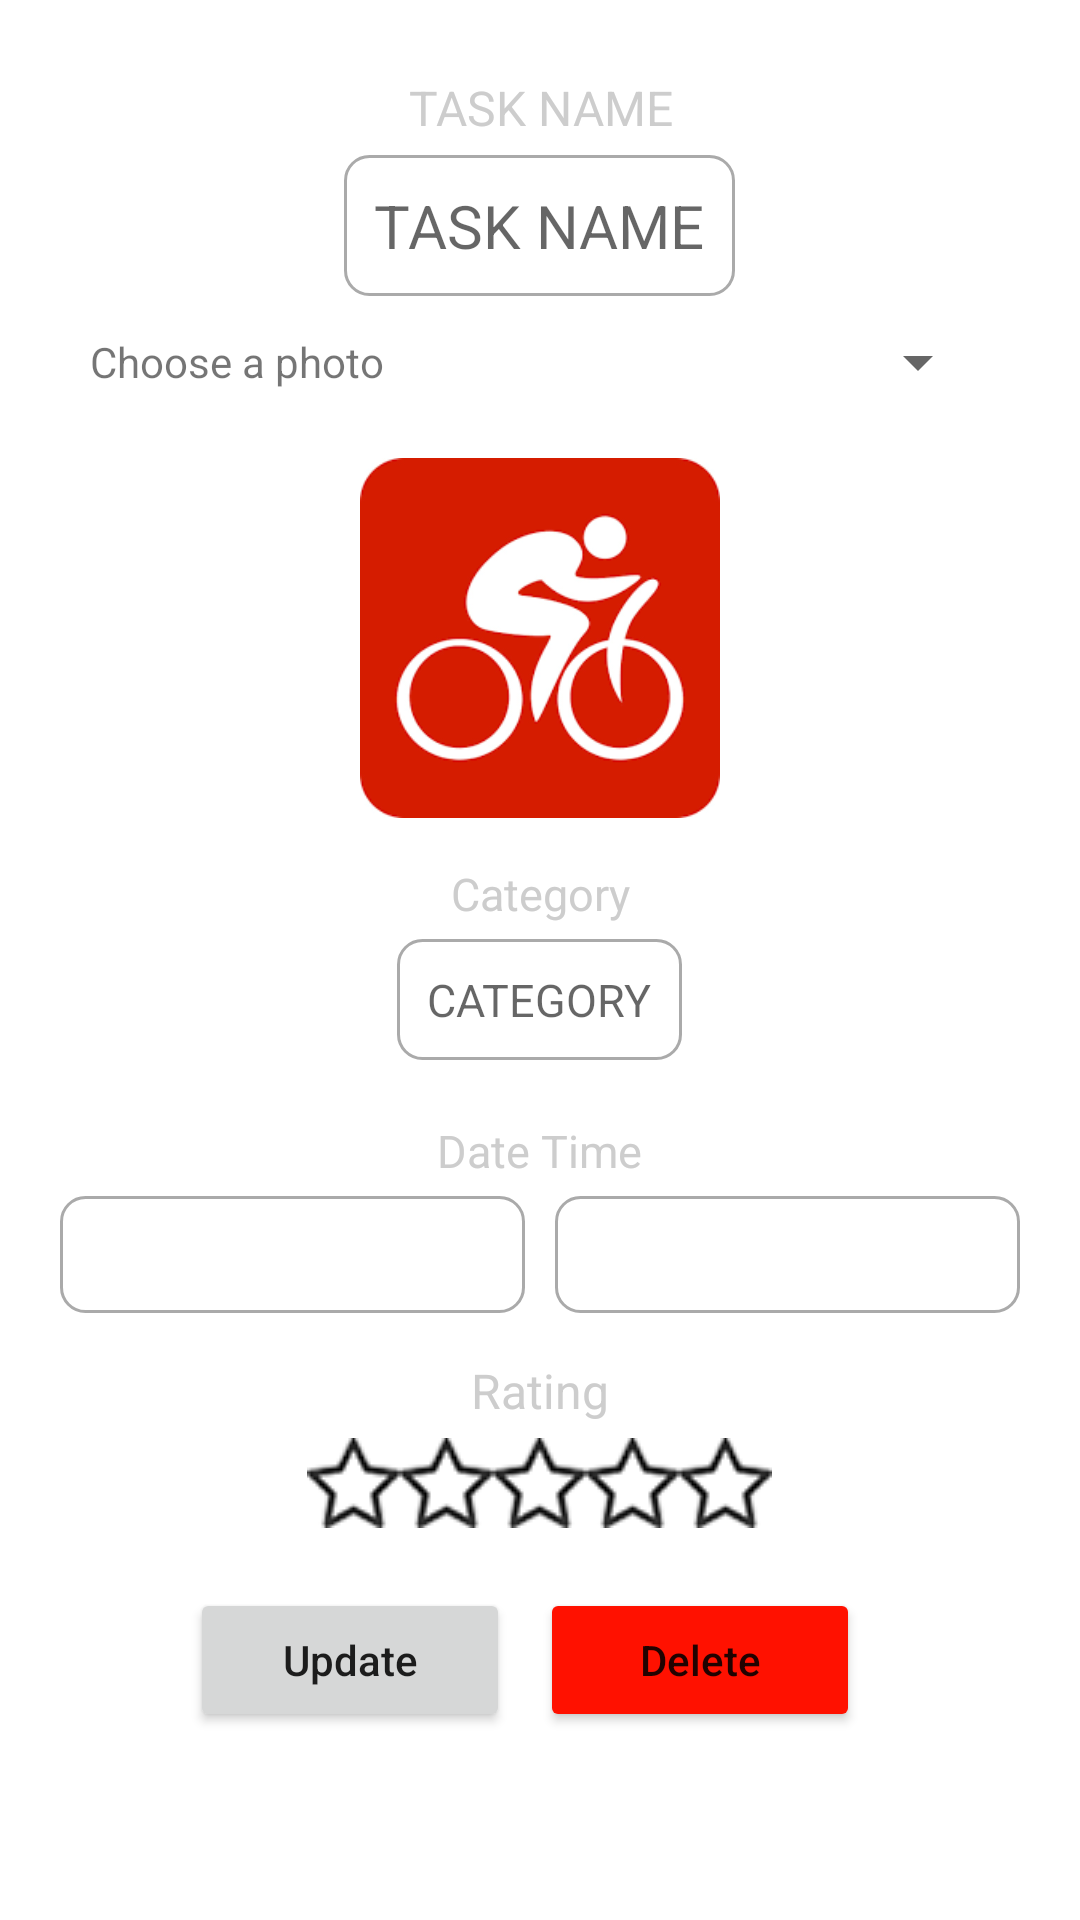

Screen size 1080px×1920px. Icon name, then its center in pixels as [x,y]:
cycling: [540,638]
